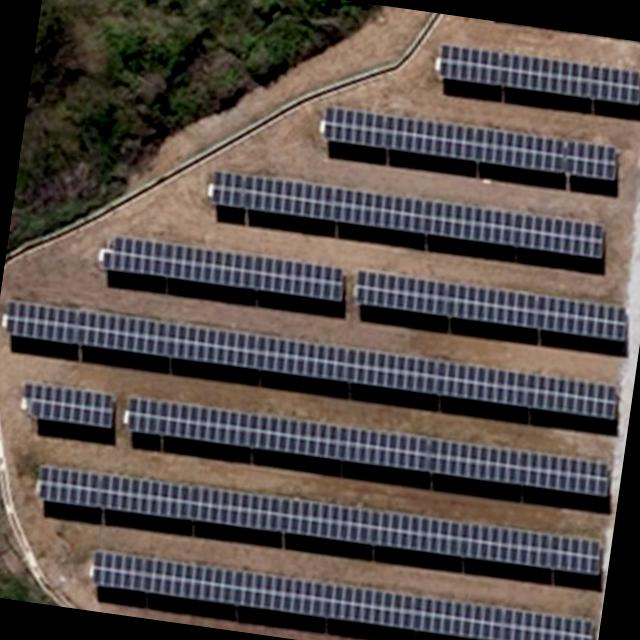solar: (102, 470, 606, 579), (123, 394, 614, 500), (86, 548, 599, 640), (207, 166, 608, 262), (164, 321, 528, 407), (353, 267, 630, 344), (98, 232, 350, 305), (320, 106, 566, 177), (435, 42, 640, 109), (24, 378, 119, 434), (522, 370, 624, 422), (74, 307, 171, 358), (35, 462, 109, 510), (5, 300, 80, 344), (560, 136, 620, 182)
